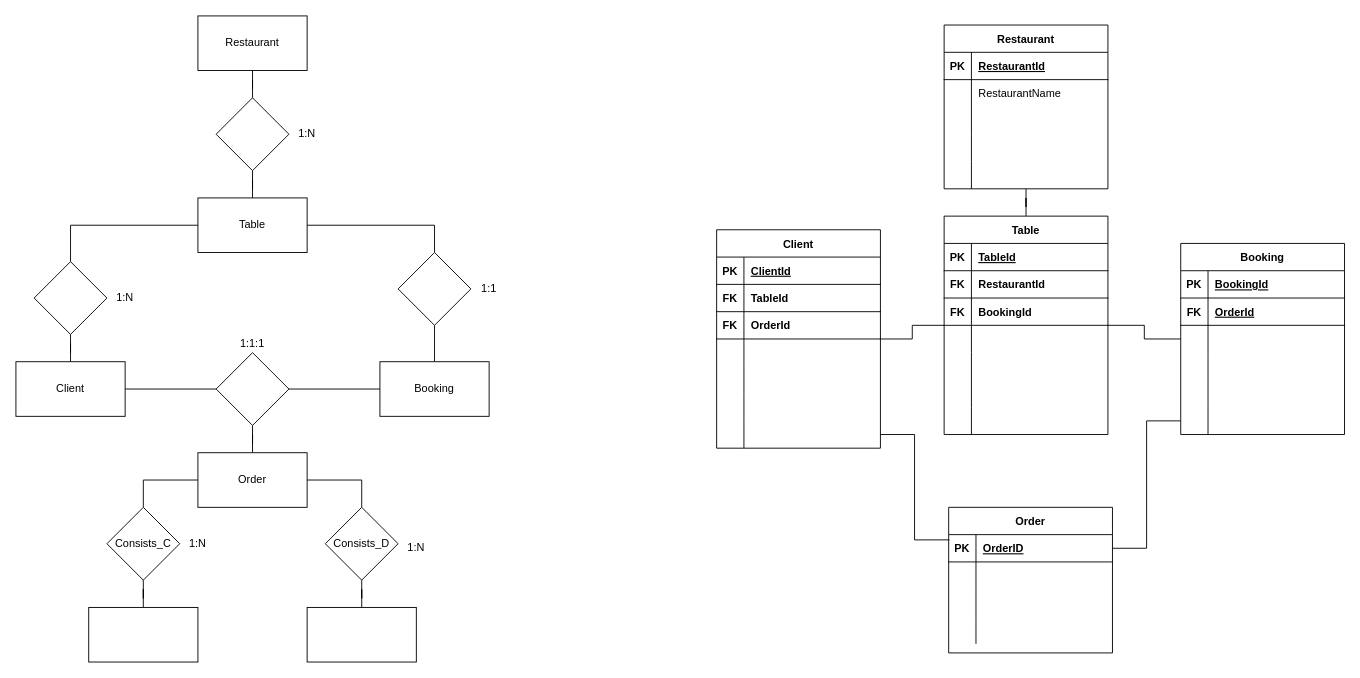
This 1360x678 diagram has some shape labels left out. The centre of each missing label's shape, as x and y in pixels:
"Book" belongs at (434,288).
"Courses" belongs at (143,634).
"Do" belongs at (252,388).
"Drinks" belongs at (361,634).
"Has_C" belongs at (70,297).
"Has_T" belongs at (252,134).
